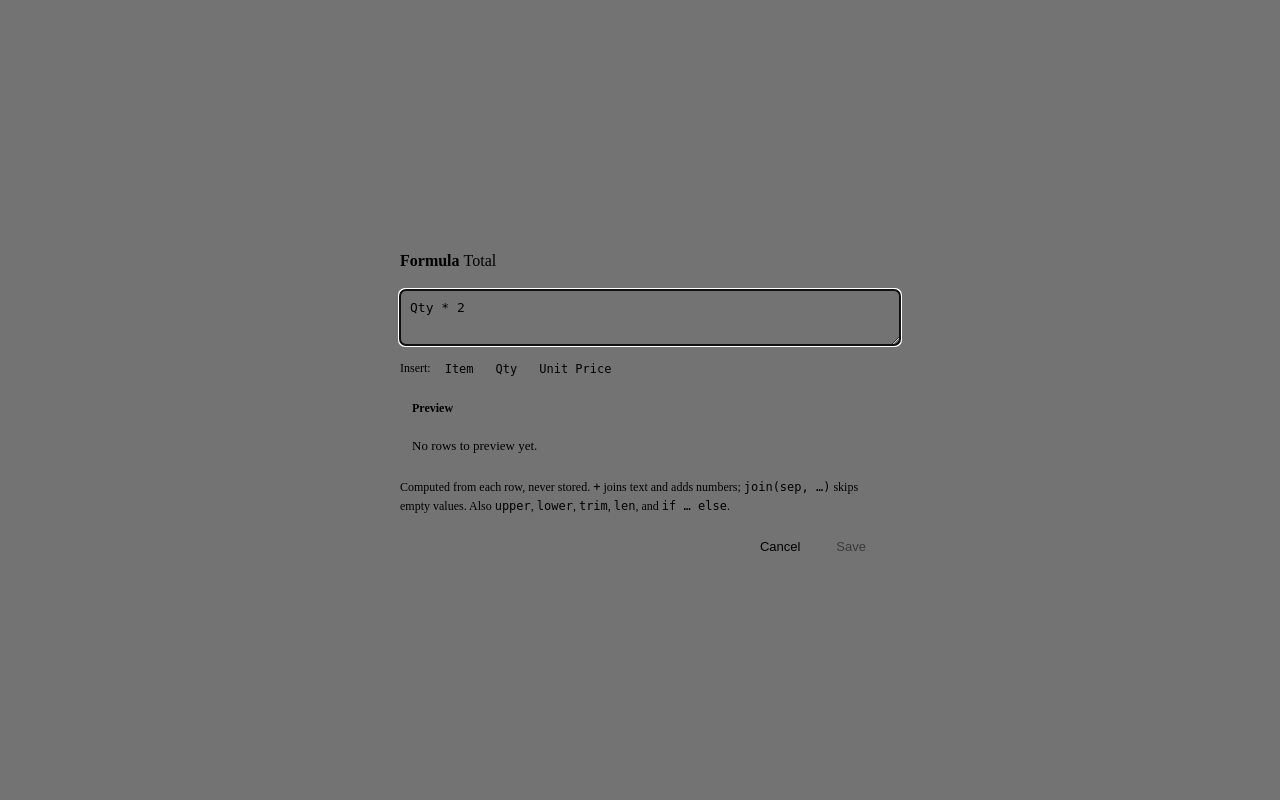
FormulaEditorModal › inserts the id for a column whose name is not a valid identifier
This screenshot has width=1280, height=800.
Clear the text box named "Formula" at (650, 317), box [400,290,900,345]
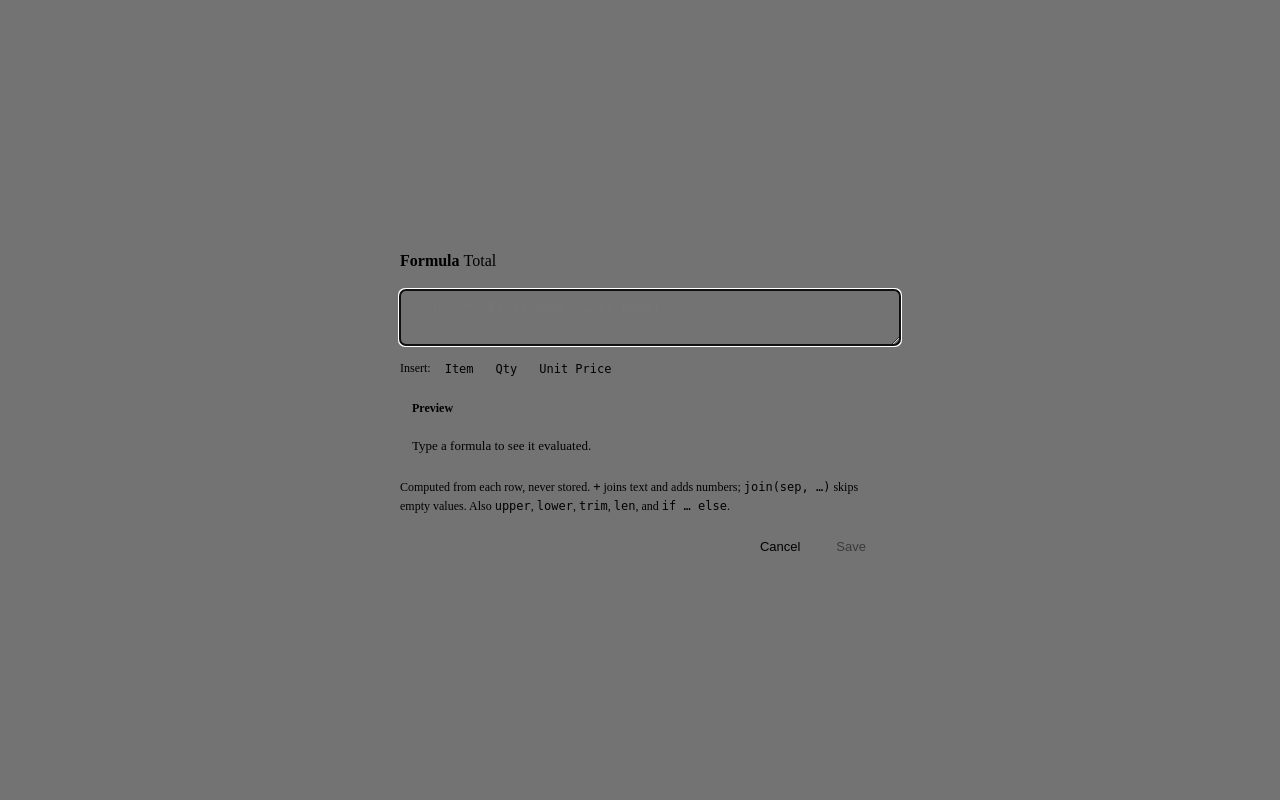
Click the button "Unit Price" at (575, 369), box [531,359,620,379]
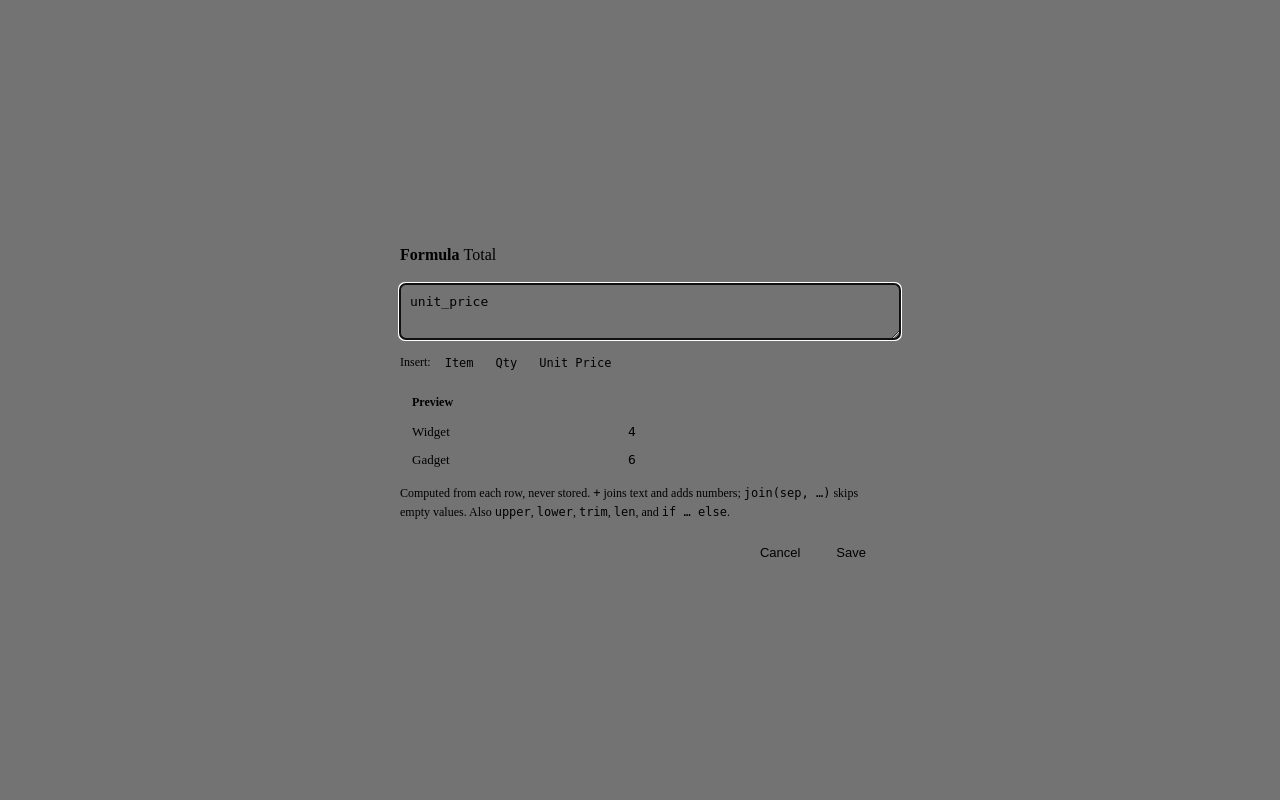
expect the text box named "Formula" holds "unit_price": met, box [400,284,900,339]
